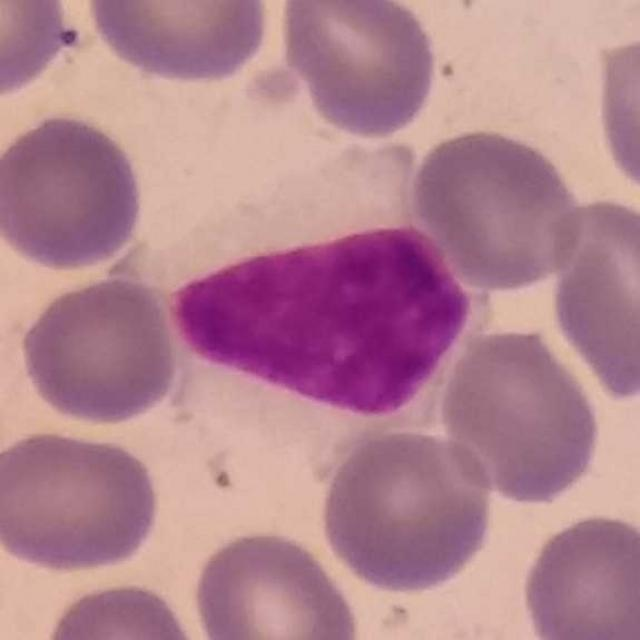Lymphocyte: (158, 140, 489, 438)
RBC: (315, 424, 499, 597), (435, 322, 606, 508), (408, 122, 586, 294), (16, 272, 182, 428), (1, 424, 164, 577), (0, 108, 149, 275), (271, 0, 441, 141), (188, 524, 365, 640), (545, 192, 640, 403), (82, 0, 275, 88), (517, 508, 640, 640), (38, 576, 205, 640), (589, 26, 640, 207), (0, 0, 83, 102)
